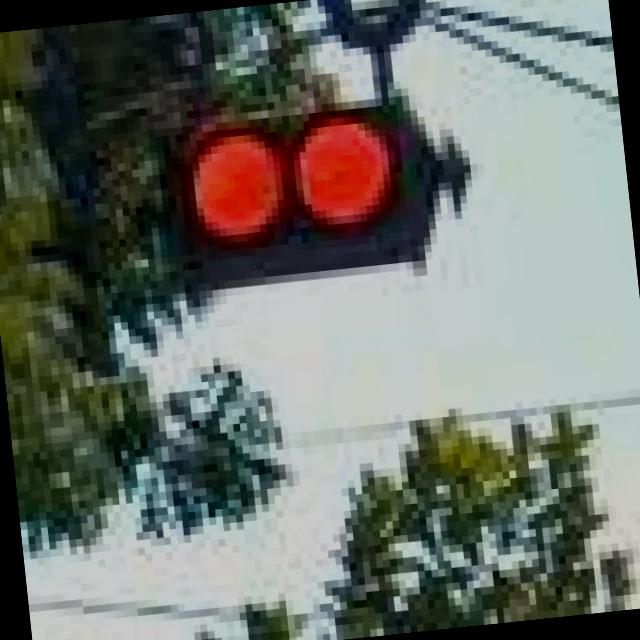Zolte swiatlo: (88, 252, 244, 534)
